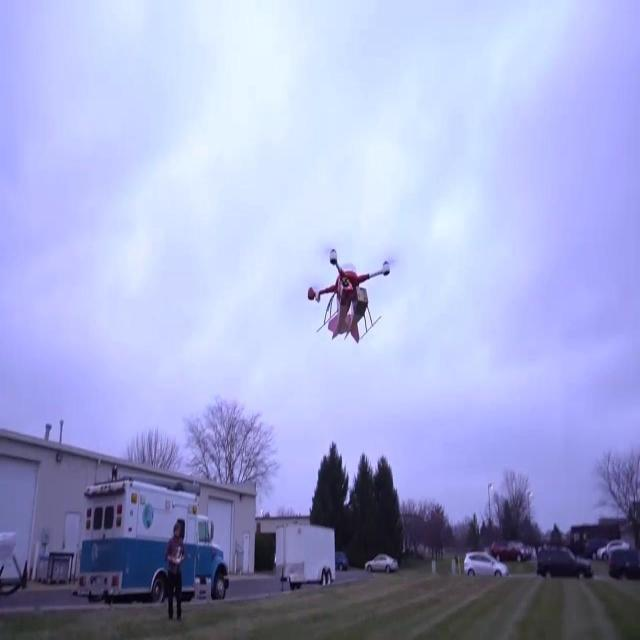drone: (304, 245, 391, 347)
